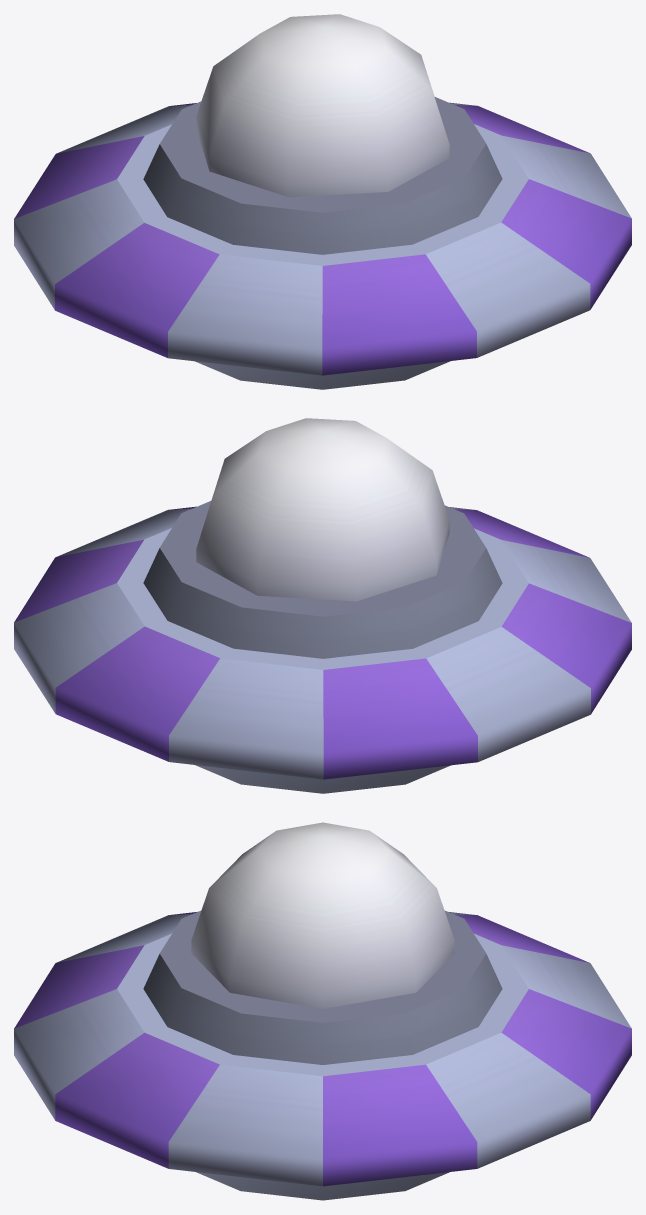
File: kenney-tower-defense-enemy-ufo-c.glb
3 views of the same model, one above another, from view 1: azimuth 30°, elevation 25°; view 2: azimuth 150°, elevation 25°; view 3: azimuth 270°, elevation 25° (orthographic).
Visible parts, largest first — view 1: enemy-ufo-c; view 2: enemy-ufo-c; view 3: enemy-ufo-c.
Boxes of the visible parts, x1,y1,x2,y2 form: enemy-ufo-c: (14, 14, 631, 389); enemy-ufo-c: (14, 418, 631, 793); enemy-ufo-c: (14, 822, 631, 1200).
Bounding box in the file's own units: 1 × 0.5254 × 1.
Materials: 1 (1 with a texture image).
